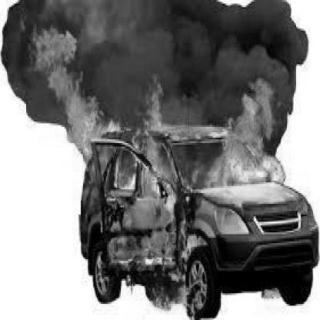Fire: (25, 22, 312, 304)
Smoke: (75, 1, 288, 90), (0, 1, 44, 110)
